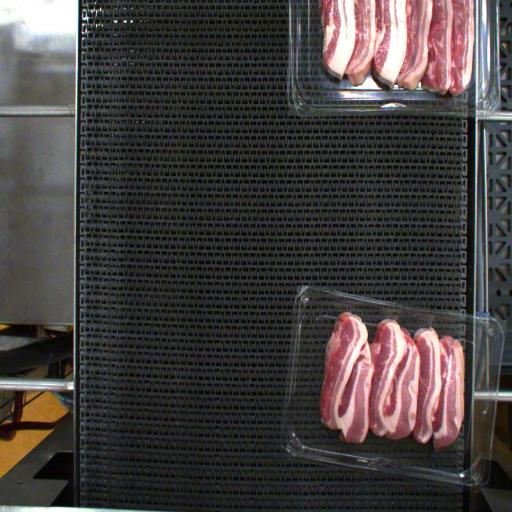packaging-error: (416, 312, 436, 330), (382, 312, 401, 322)
